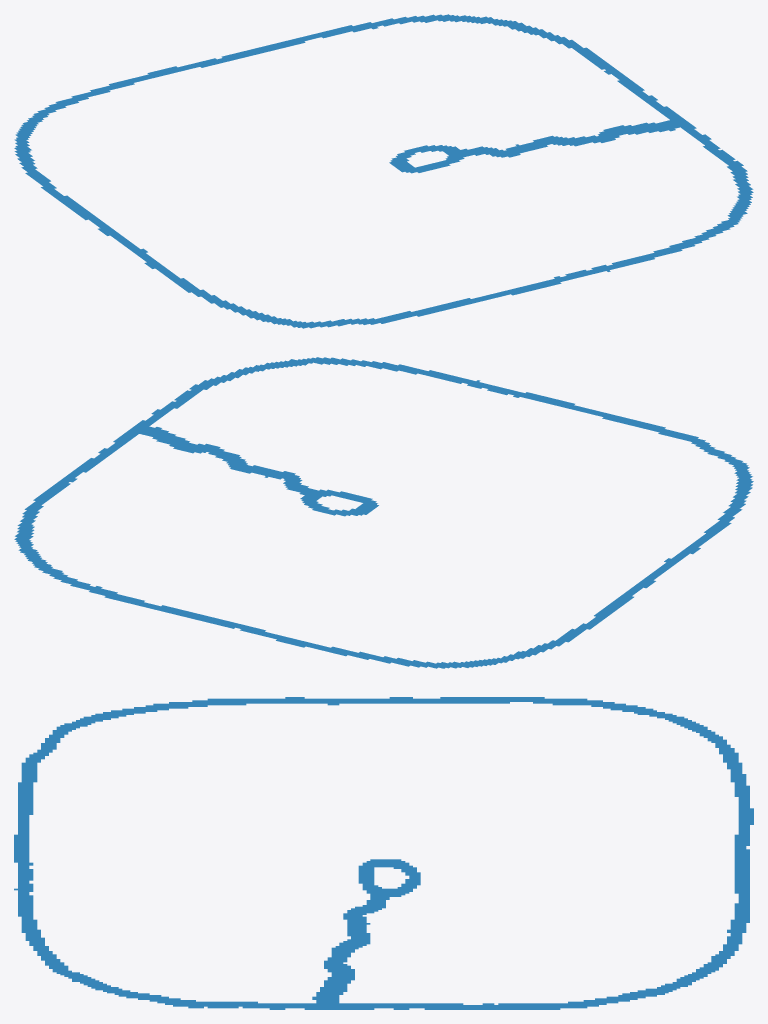
Rendered from Map-5-PlaceForWaterObjects.fbx.
3 renders of one model, top to bottom at view 1: azimuth 30°, elevation 25°; view 2: azimuth 150°, elevation 25°; view 3: azimuth 270°, elevation 25°, orthographic. The views are drawn at different scales.
Visible parts, largest first — view 1: Map-5-PlaceForWaterObjects; view 2: Map-5-PlaceForWaterObjects; view 3: Map-5-PlaceForWaterObjects.
Boxes of the visible parts, bbox=[...] form: Map-5-PlaceForWaterObjects: bbox=[14, 14, 753, 328]; Map-5-PlaceForWaterObjects: bbox=[14, 357, 753, 668]; Map-5-PlaceForWaterObjects: bbox=[14, 697, 753, 1009].
Bounding box in the file's own units: 191 × 0 × 191.
